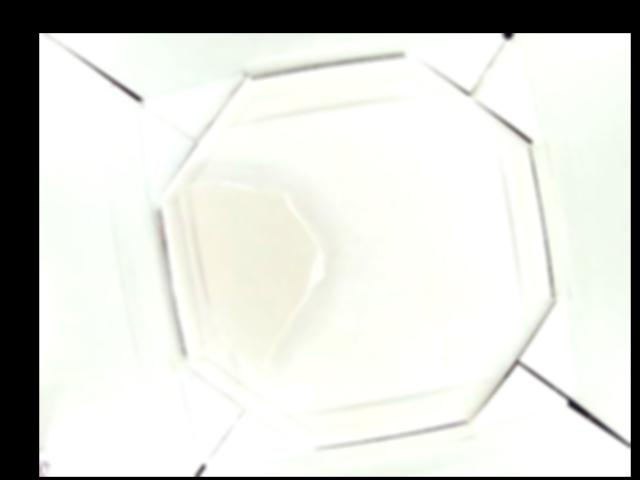China: (192, 177, 323, 378)
